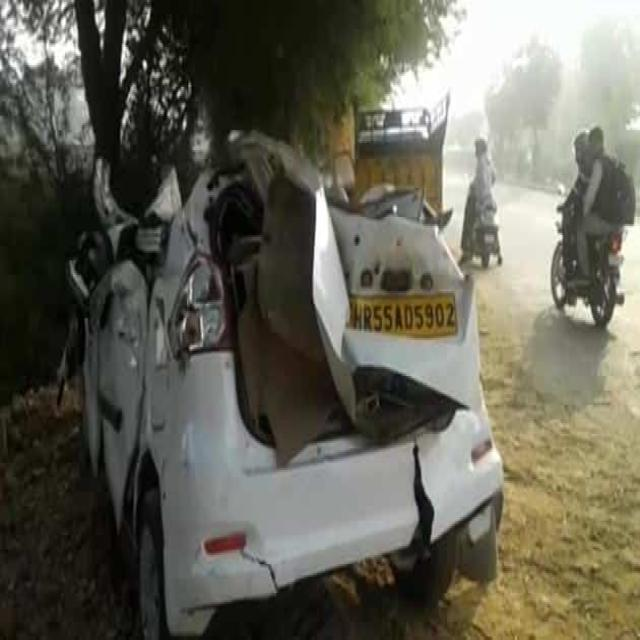accident: (69, 131, 504, 637)
motorcycle: (551, 127, 635, 326)
